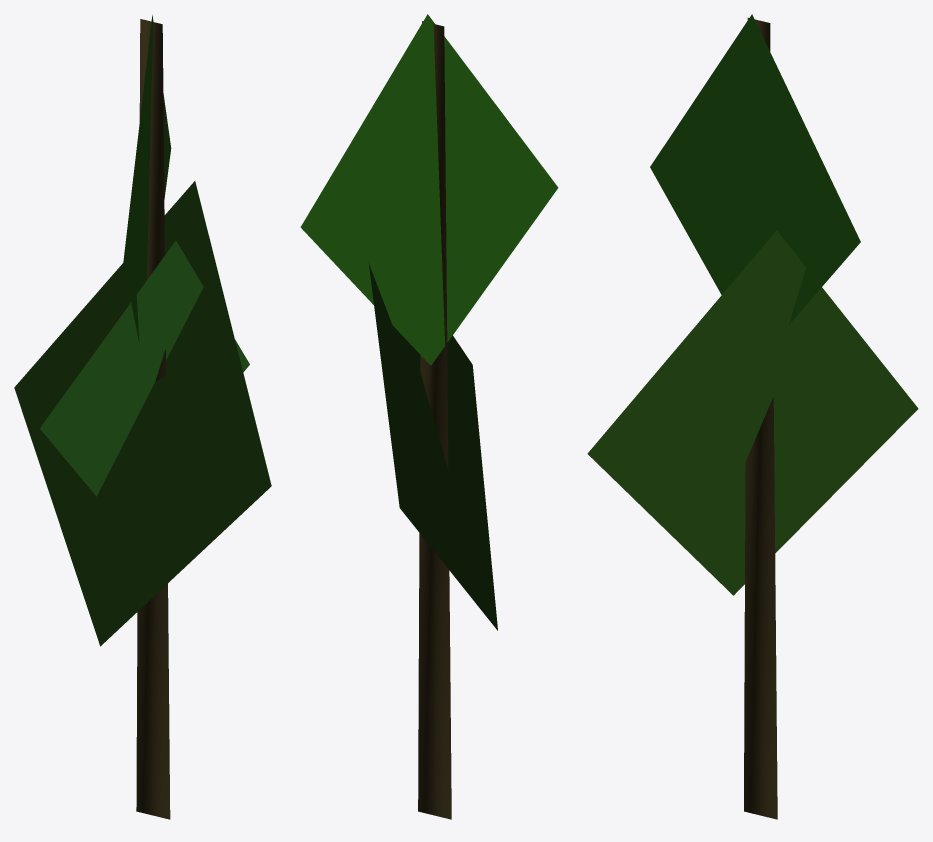
The model's file is GroundCover_Seedling_01.glb.
The picture shows the model from 3 angles, left to right: view 1: azimuth 30°, elevation 25°; view 2: azimuth 150°, elevation 25°; view 3: azimuth 270°, elevation 25°; orthographic projection.
Visible parts, largest first — view 1: GroundCover_Seedling_01; view 2: GroundCover_Seedling_01; view 3: GroundCover_Seedling_01.
Part boxes in pixels (bbox=[...]): GroundCover_Seedling_01: bbox=[14, 15, 271, 819]; GroundCover_Seedling_01: bbox=[300, 14, 558, 819]; GroundCover_Seedling_01: bbox=[587, 14, 918, 819].
Size of the model in its own units: 0.0172 by 0.0592 by 0.022.
